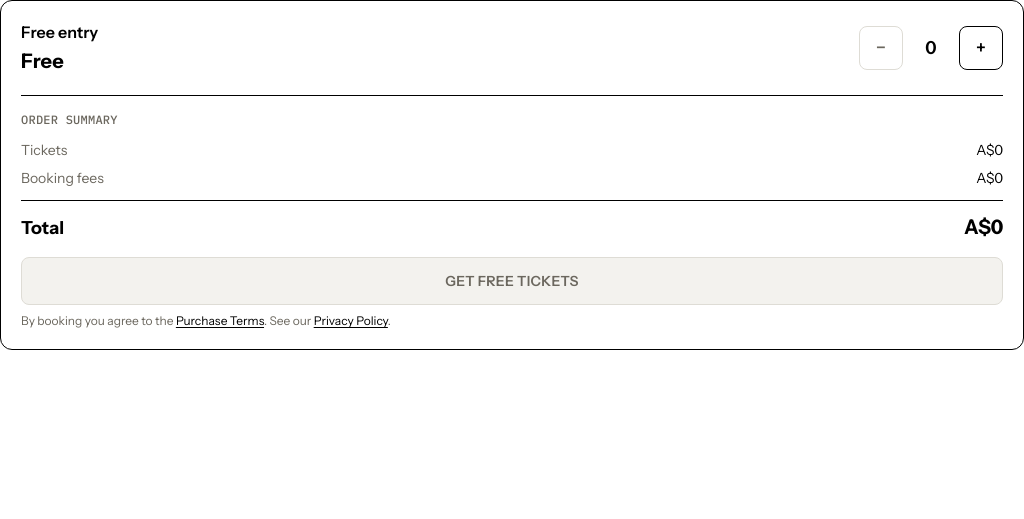
Test: TicketSelector (live, signed in) › lets the buyer replace the prefilled email, including clearing it
Click the button named "Increase quantity for Free entry" at [981, 48], box [959,26,1003,70]
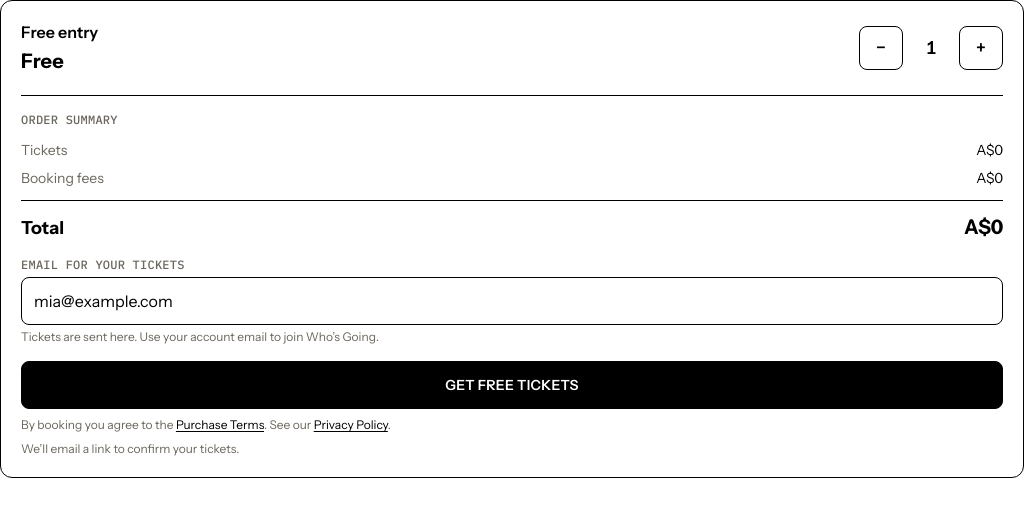
Clear the field labelled "Email for your tickets" at [512, 301], box [21,277,1003,325]
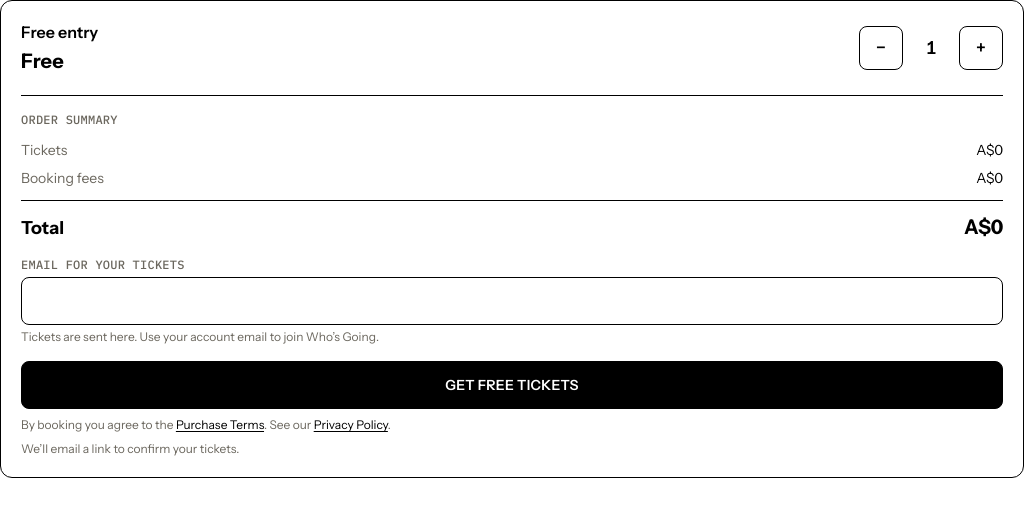
Click the button "Get free tickets" at [512, 385], box [21,361,1003,409]
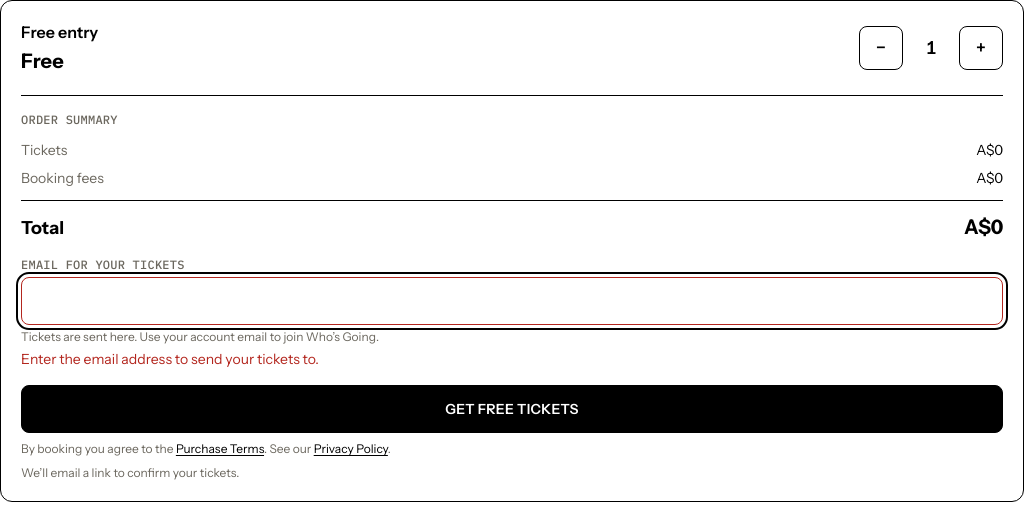
Now the message reads "Enter the email address to send your tickets to.", box [21,350,319,368]
